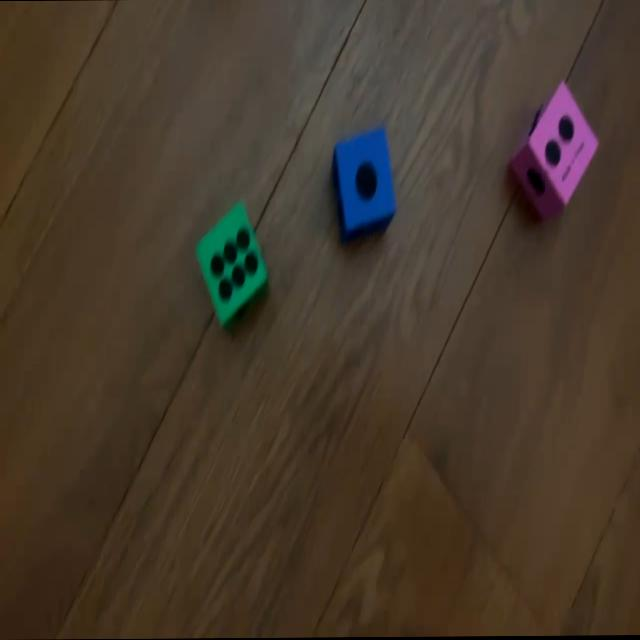cube: (196, 199, 267, 324), (331, 126, 395, 238)
